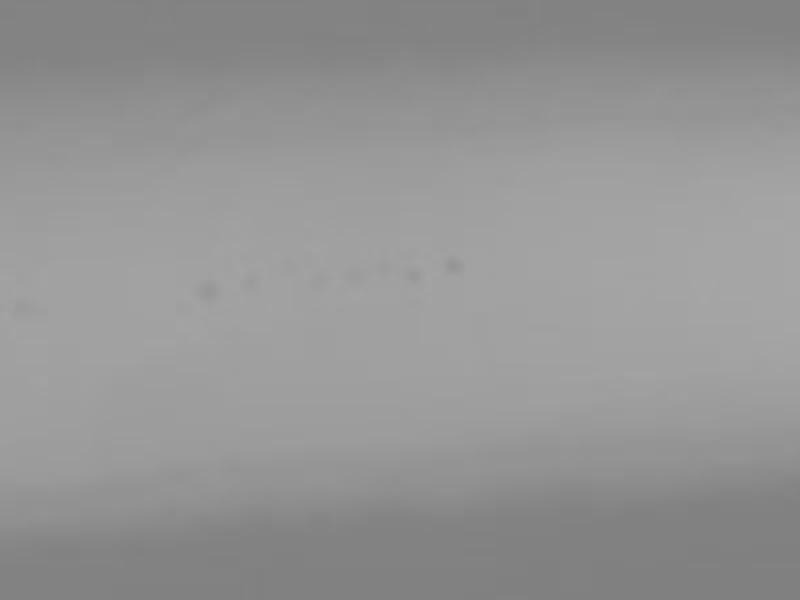defect: (343, 262, 370, 286), (441, 252, 468, 275), (306, 268, 330, 290), (195, 277, 215, 301), (239, 271, 259, 292), (404, 265, 421, 285)
